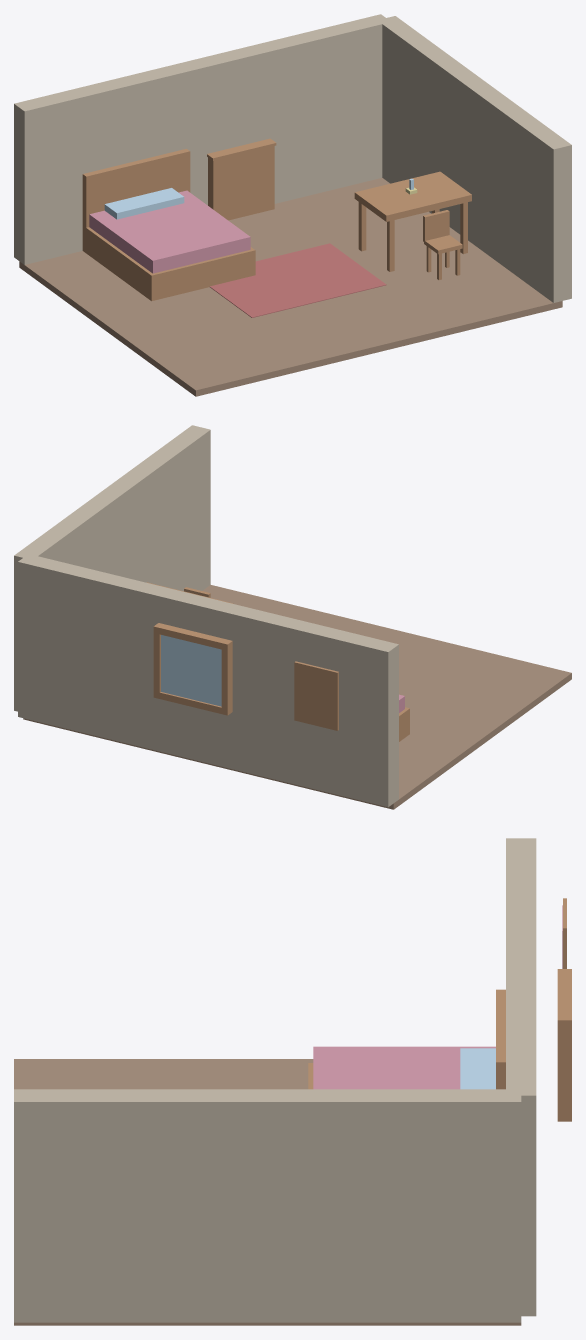
File: interior_casa.glb
3 renders of one model, top to bottom at view 1: azimuth 30°, elevation 25°; view 2: azimuth 150°, elevation 25°; view 3: azimuth 270°, elevation 25°, orthographic. The views are drawn at different scales.
Parts seen in each view (by area): view 1: Wall_Back, Floor, Wall_Right, Bed_Mattress, Rug, Bed_Frame, Bed_Headboard, Dresser, Table_Top, Bed_Pillow, Chair_Back, Dresser_Top (+1 smaller); view 2: Wall_Back, Floor, Wall_Right, Window_Glass, Painting, Window_Frame_Top, Window_Frame_L, Window_Frame_Bot, Window_Frame_R; view 3: Wall_Right, Wall_Back, Floor, Bed_Mattress, Bed_Pillow, Window_Frame_R, Bed_Headboard, Window_Frame_Top.
Boxes of the visible parts, x1=… form: Wall_Back: x1=14, y1=14, x2=390, y2=264; Floor: x1=19, y1=178, x2=562, y2=396; Wall_Right: x1=378, y1=16, x2=571, y2=302; Bed_Mattress: x1=89, y1=190, x2=250, y2=273; Rug: x1=209, y1=243, x2=386, y2=317; Bed_Frame: x1=82, y1=226, x2=255, y2=301; Bed_Headboard: x1=82, y1=149, x2=190, y2=240; Dresser: x1=208, y1=146, x2=274, y2=220; Table_Top: x1=354, y1=171, x2=471, y2=221; Bed_Pillow: x1=104, y1=188, x2=184, y2=219; Chair_Back: x1=423, y1=210, x2=449, y2=241; Dresser_Top: x1=207, y1=138, x2=276, y2=160; Wall_Back: x1=18, y1=554, x2=398, y2=807; Floor: x1=23, y1=585, x2=571, y2=809; Wall_Right: x1=14, y1=425, x2=210, y2=711; Window_Glass: x1=161, y1=635, x2=221, y2=706; Painting: x1=294, y1=661, x2=338, y2=730; Window_Frame_Top: x1=153, y1=623, x2=232, y2=650; Window_Frame_L: x1=221, y1=645, x2=232, y2=711; Window_Frame_Bot: x1=153, y1=691, x2=232, y2=715; Window_Frame_R: x1=153, y1=630, x2=160, y2=695; Wall_Right: x1=14, y1=1089, x2=521, y2=1322; Wall_Back: x1=506, y1=838, x2=536, y2=1316; Floor: x1=14, y1=1059, x2=521, y2=1325; Bed_Mattress: x1=313, y1=1046, x2=495, y2=1089; Bed_Pillow: x1=460, y1=1048, x2=495, y2=1089; Window_Frame_R: x1=557, y1=1025, x2=571, y2=1116; Bed_Headboard: x1=496, y1=989, x2=505, y2=1089; Window_Frame_Top: x1=557, y1=969, x2=571, y2=1029.
Bounding box in the file's own units: 6.15 × 2.5 × 5.5.
